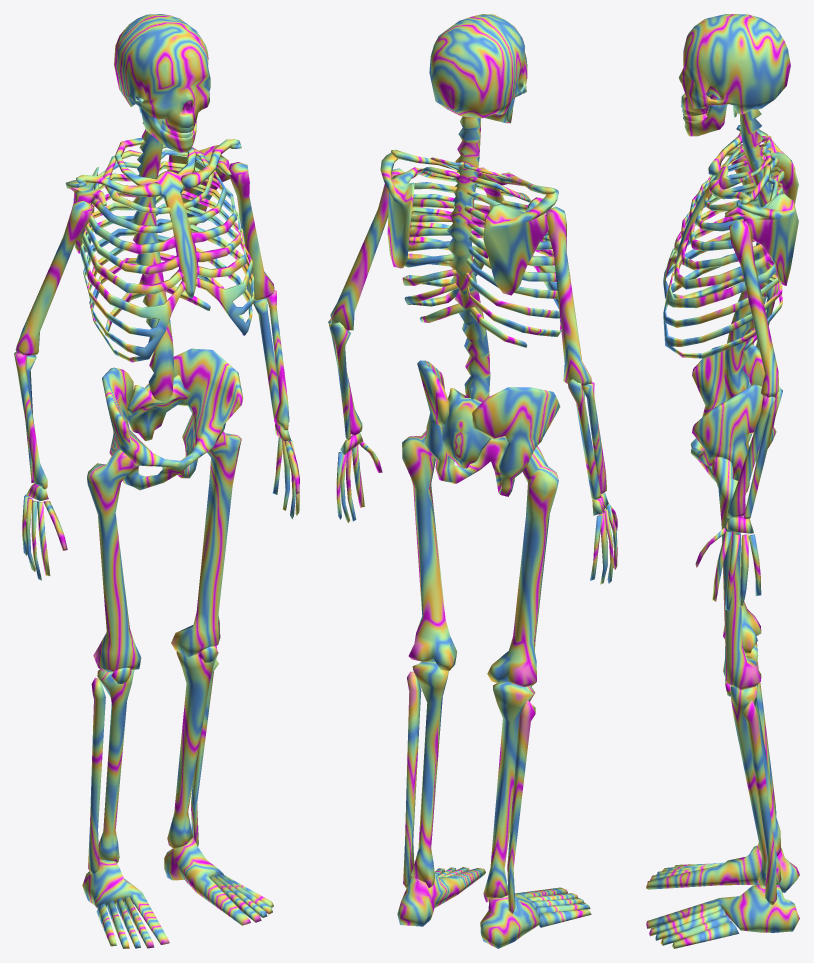
Rendered from skeleton.obj.
3 views of the same model, side by side, from view 1: azimuth 30°, elevation 25°; view 2: azimuth 150°, elevation 25°; view 3: azimuth 270°, elevation 25° (orthographic).
Visible parts, largest first — view 1: body.001; view 2: body.001; view 3: body.001.
Part boxes in pixels (<box>): body.001: <box>14,14,299,948</box>; body.001: <box>328,14,617,948</box>; body.001: <box>646,14,799,948</box>.
Bounding box in the file's own units: 1.08 × 3.48 × 0.5452.
Materials: 1 (1 with a texture image).
